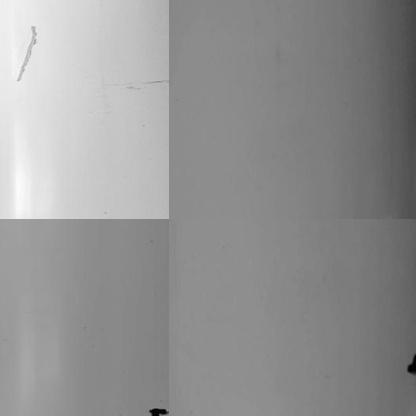kongdong: (146, 403, 164, 413), (405, 356, 415, 374)
sunshang: (17, 25, 40, 88)
